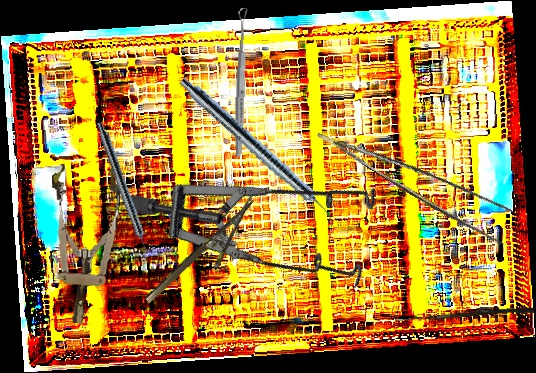Handpiece: (174, 74, 343, 229), (92, 120, 154, 261)
Hook Surgical: (394, 304, 535, 328)
Needle Holder: (143, 196, 271, 319)
Speculum: (121, 69, 413, 356), (42, 163, 122, 326)
Surgical Spoon: (233, 7, 249, 158)
Tissue Forceps: (316, 101, 526, 254)
